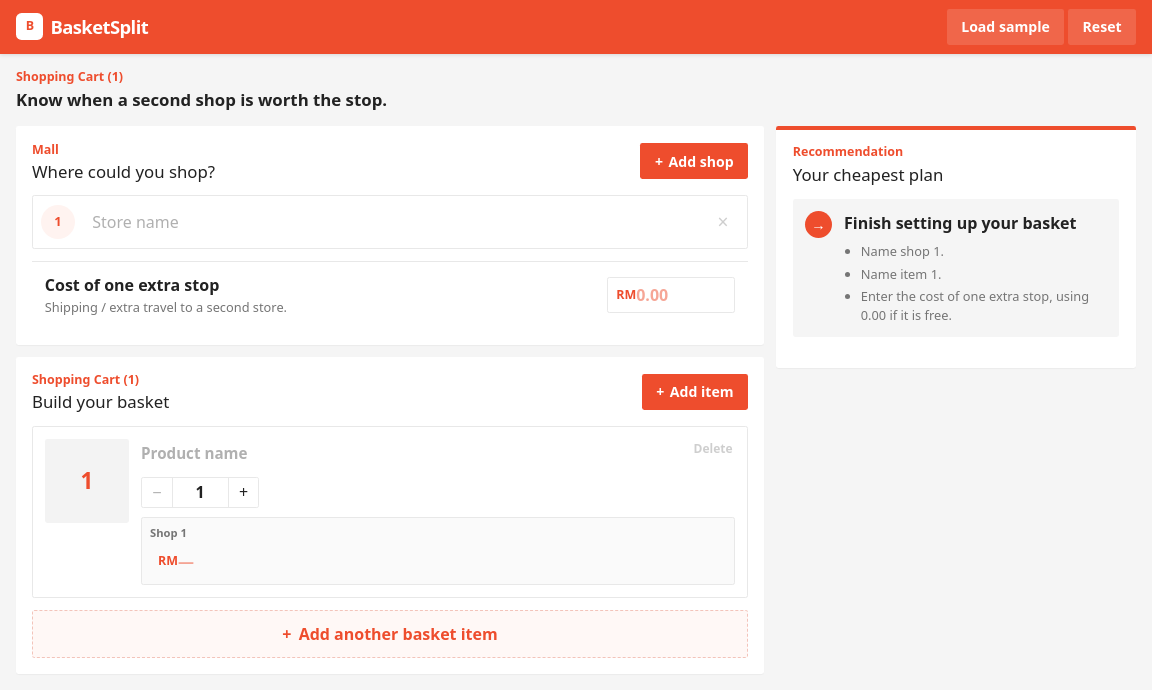
Scenario: App shell › updates the recommendation when the extra-stop cost changes
Click the button "Load sample". click: [1006, 27]
box: [947,9,1064,45]
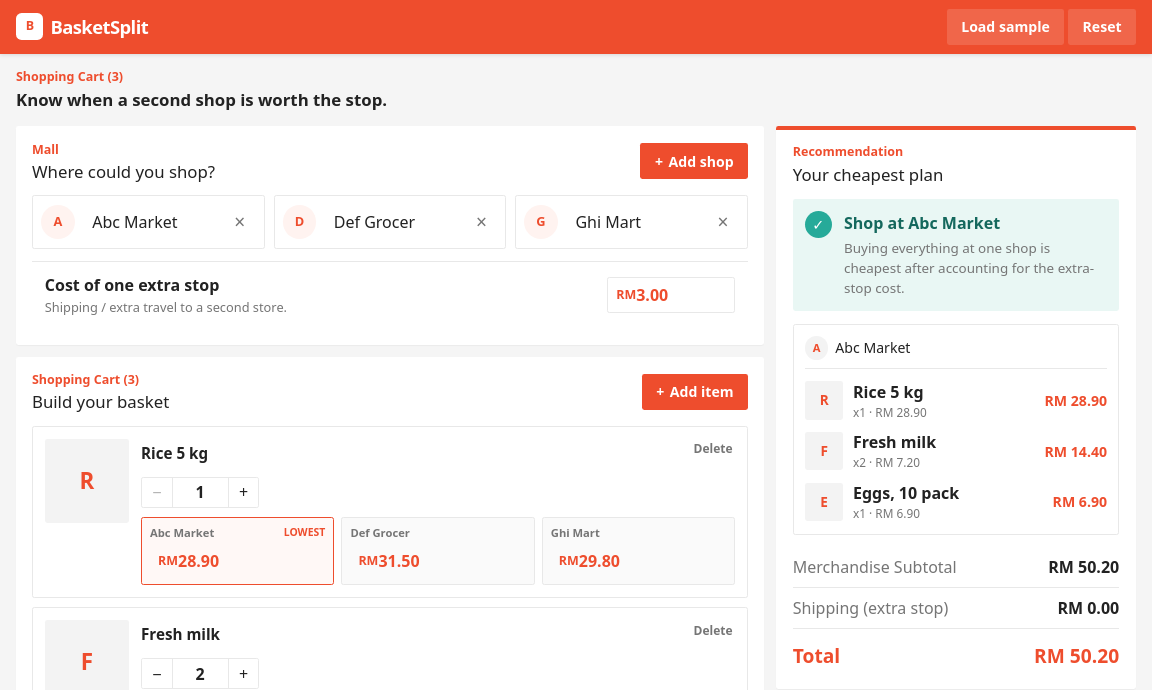
Expected: the text "RM 50.20" next to "Merchandise Subtotal" is shown, [1048,556,1119,578]
Replace the text in the field labelled "Cost of one extra stop" with "0.00". click: [685, 295]
box: [636,278,734,312]
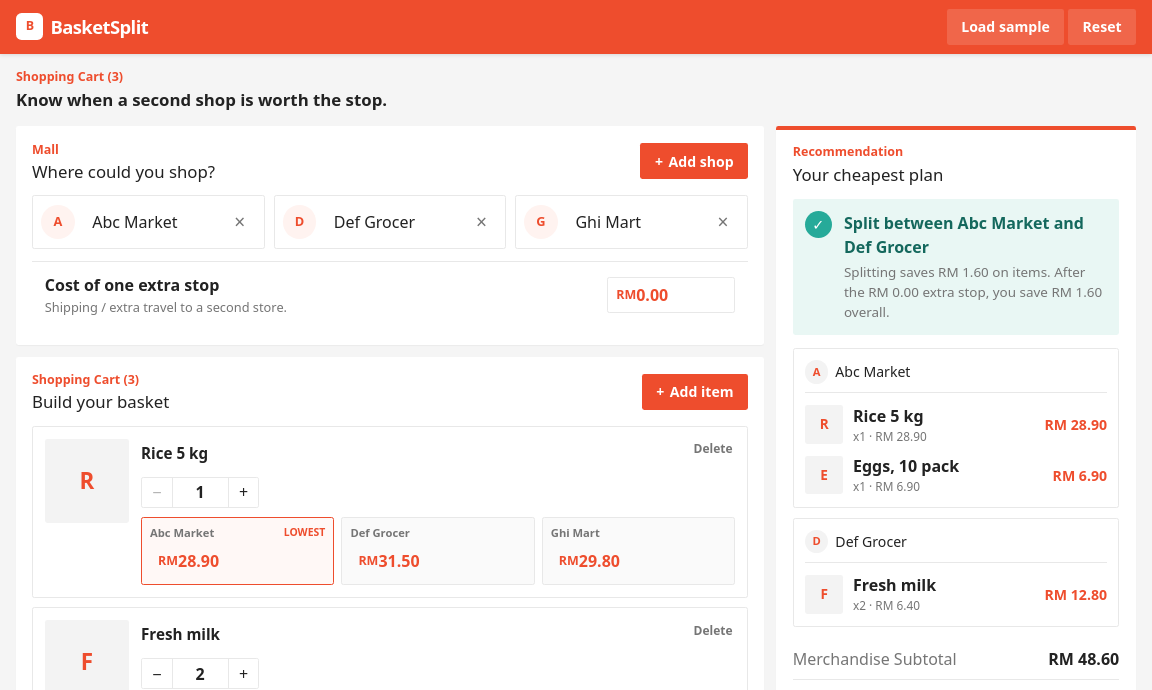
Expected: the text "you save RM 1.60 overall" is shown, [844,263,1102,321]
